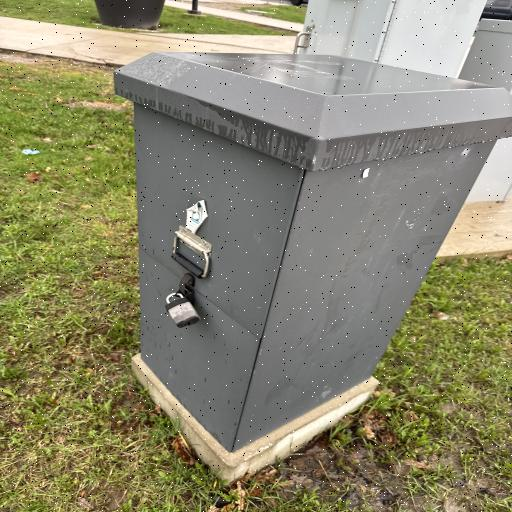Electrical Box: (110, 49, 512, 456)
